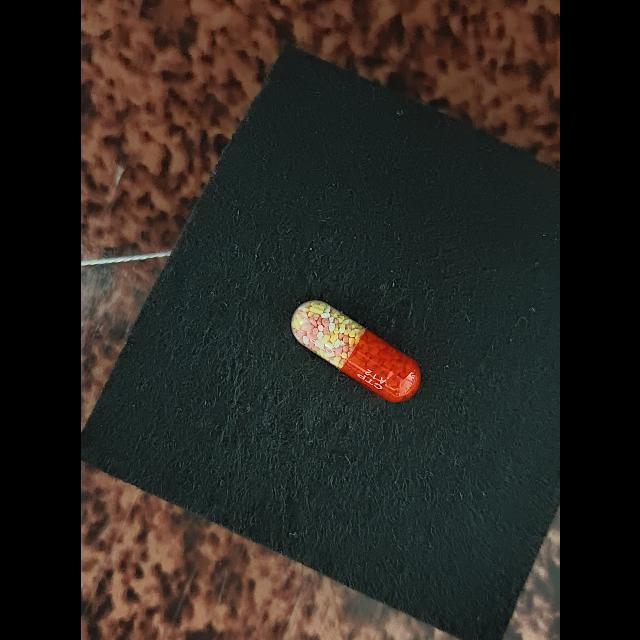Intact Capsule: (290, 300, 421, 402)
